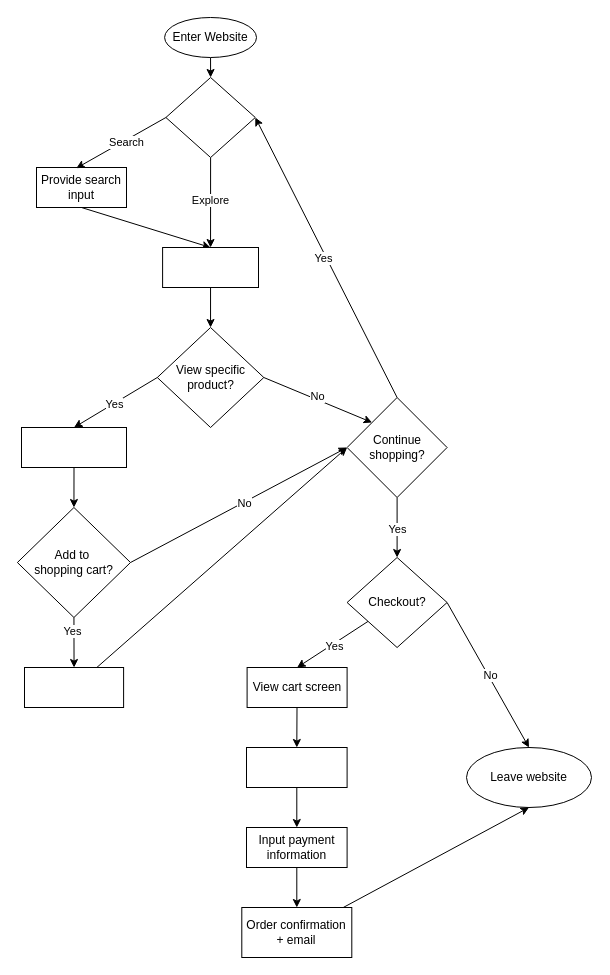
This 610x975 diagram has some shape labels left out. The centre of each missing label's shape, as x and y in pixels:
Add to cart confirmation: (74,687)
Look over products: (210,267)
Open product webpage: (73,447)
Search or Explore?: (210,117)
View payment screen: (296,767)
